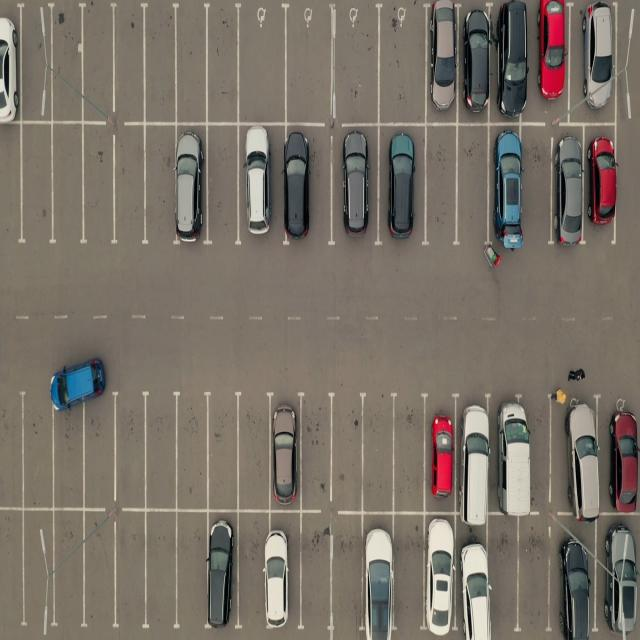space-empty: (286, 7, 337, 124), (375, 5, 425, 124), (238, 5, 288, 124), (332, 6, 380, 124), (45, 513, 87, 630), (15, 126, 53, 248), (517, 514, 556, 632), (142, 4, 180, 123), (46, 2, 84, 121), (204, 5, 242, 123), (175, 4, 212, 124), (205, 125, 242, 244), (143, 390, 180, 509), (17, 388, 54, 507), (79, 512, 116, 630), (78, 129, 115, 247), (112, 129, 149, 247), (237, 392, 274, 508), (175, 392, 212, 508), (142, 512, 178, 631), (50, 128, 86, 247), (113, 389, 149, 508), (78, 2, 114, 121), (331, 514, 366, 636), (328, 395, 366, 507), (79, 389, 115, 507), (112, 4, 148, 122), (457, 125, 492, 246), (392, 398, 429, 512), (205, 393, 241, 510), (18, 512, 54, 629), (115, 512, 150, 631), (358, 396, 394, 511), (141, 124, 176, 242), (50, 396, 86, 509), (296, 395, 332, 508), (15, 4, 50, 120), (296, 513, 330, 632), (394, 514, 427, 636), (423, 124, 457, 242), (177, 512, 210, 631), (487, 516, 519, 636), (523, 125, 554, 244), (0, 384, 24, 506), (0, 510, 24, 630), (0, 127, 22, 248)
space-occupied: (552, 394, 600, 515), (282, 128, 330, 247), (490, 392, 536, 513), (571, 2, 617, 122), (239, 124, 284, 246), (332, 129, 379, 245), (382, 123, 428, 240), (553, 518, 597, 637), (599, 518, 640, 636), (532, 0, 572, 119), (458, 393, 497, 514), (260, 508, 299, 629), (421, 512, 458, 637), (603, 398, 640, 518), (493, 3, 529, 123), (458, 518, 494, 638), (424, 6, 460, 124), (488, 126, 522, 248), (423, 394, 458, 512), (361, 514, 394, 637), (176, 128, 210, 247), (267, 393, 302, 507), (552, 127, 586, 242), (462, 8, 495, 124), (207, 512, 238, 631), (584, 127, 614, 236), (0, 4, 20, 122)
